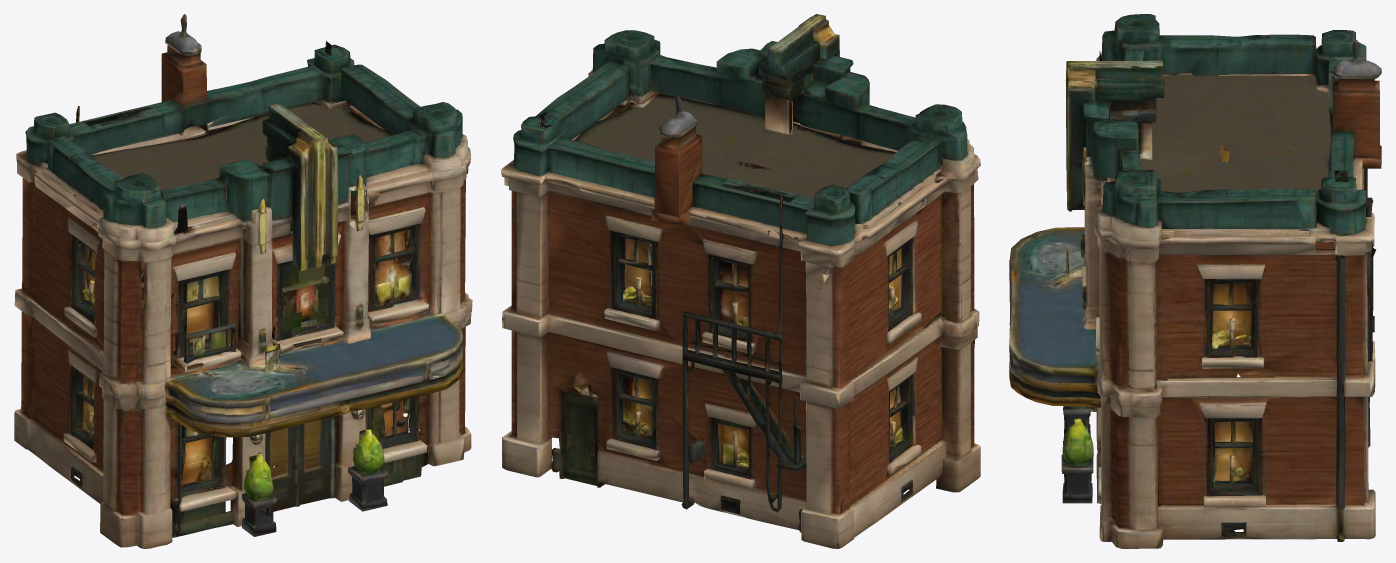
3 views of the same model, side by side, from view 1: azimuth 30°, elevation 25°; view 2: azimuth 150°, elevation 25°; view 3: azimuth 270°, elevation 25° (orthographic). The views are drawn at different scales.
Visible parts, largest first — view 1: expansion__hotel_2__native_mobile; view 2: expansion__hotel_2__native_mobile; view 3: expansion__hotel_2__native_mobile.
Boxes of the visible parts, x1,y1,x2,y2 form: expansion__hotel_2__native_mobile: [14, 14, 472, 548]; expansion__hotel_2__native_mobile: [501, 14, 980, 548]; expansion__hotel_2__native_mobile: [1009, 14, 1381, 548].
Bounding box in the file's own units: 0.934 × 1 × 0.7815.
1 material, 1 textured.
